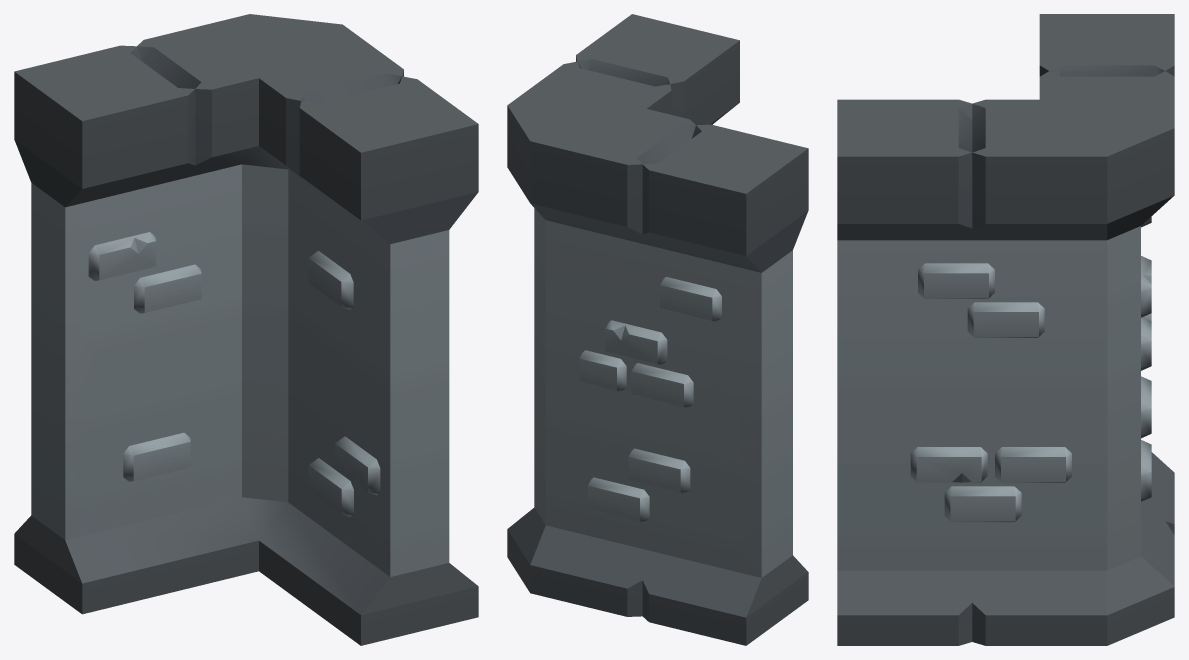
The model's file is wall_corner.glb.
3 views of the same model, side by side, from view 1: azimuth 30°, elevation 25°; view 2: azimuth 150°, elevation 25°; view 3: azimuth 270°, elevation 25° (orthographic). The views are drawn at different scales.
Visible parts, largest first — view 1: wall_corner; view 2: wall_corner; view 3: wall_corner.
Part boxes in pixels (x1=…): wall_corner: x1=14, y1=14, x2=478, y2=645; wall_corner: x1=507, y1=14, x2=808, y2=645; wall_corner: x1=837, y1=14, x2=1174, y2=645.
Bounding box in the file's own units: 2.5 × 4 × 2.5.
Materials: 1 (1 with a texture image).
